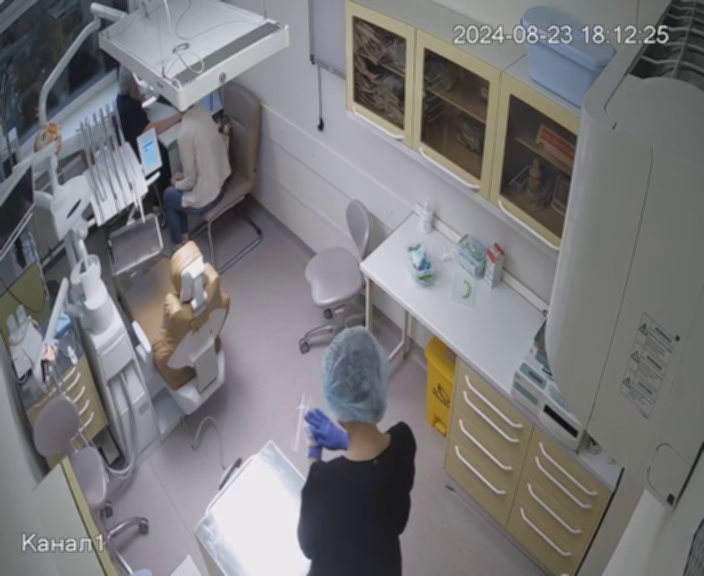Empty: (118, 240, 232, 418)
